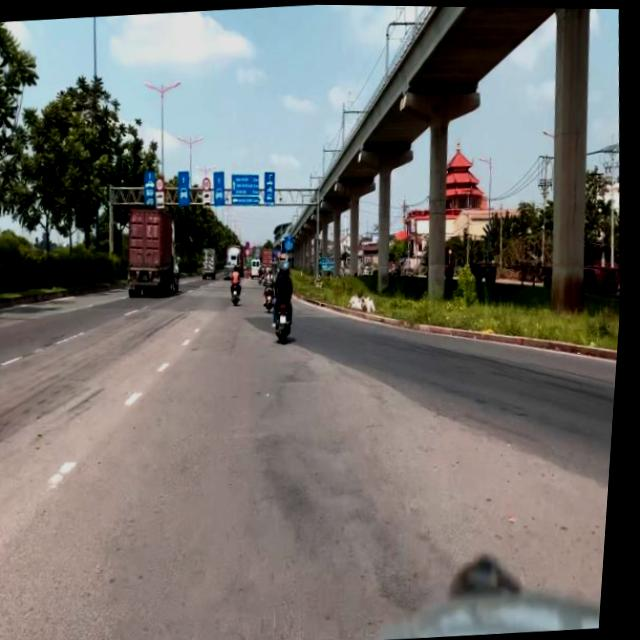Cam dung xe va do xe: (248, 240, 254, 248)
Toc do toi da cho phep: (157, 175, 167, 191), (204, 176, 213, 191)
